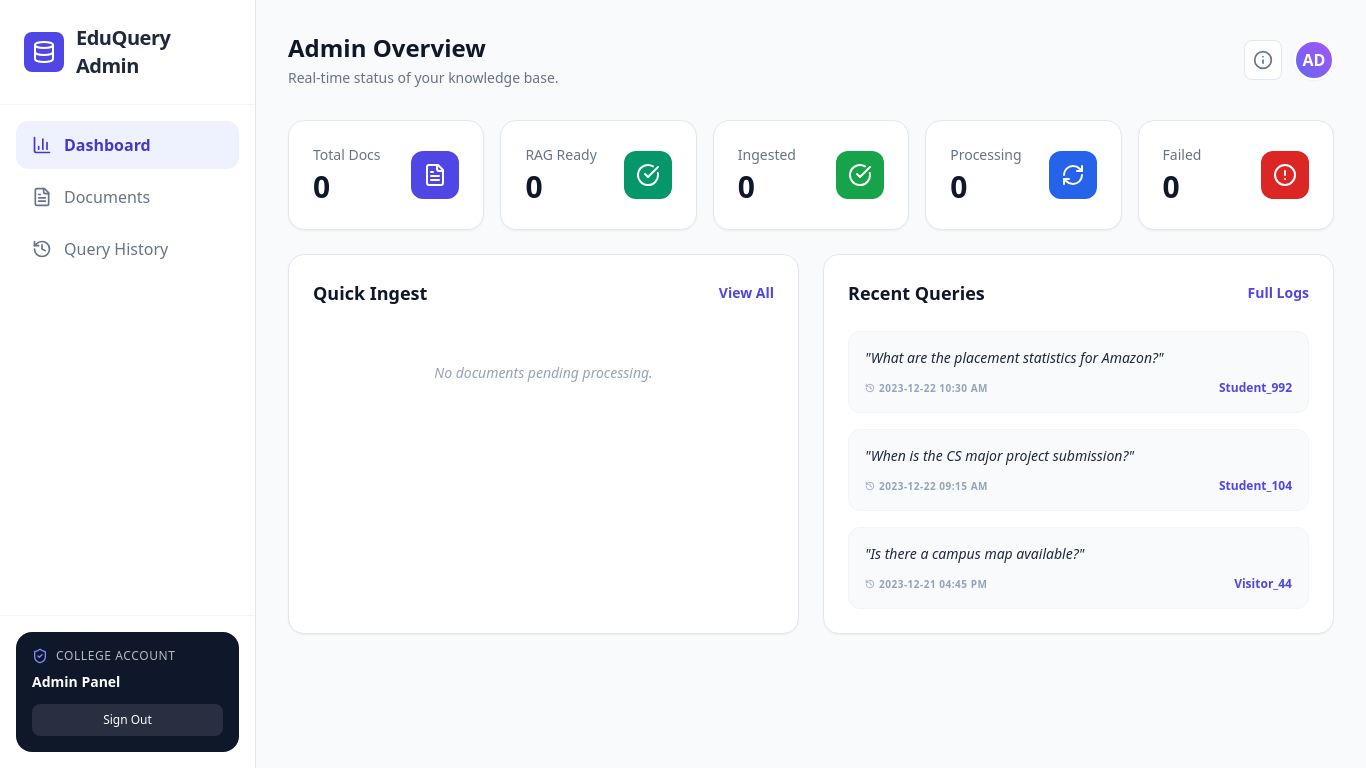
Test case: Admin Dashboard › renders dashboard and navigates to documents tab
Expected: the heading "Admin Overview" is shown, [288,31,486,64]
# Use regex to be more flexible
Click the button "Documents" at (128, 197), box [16,173,239,221]
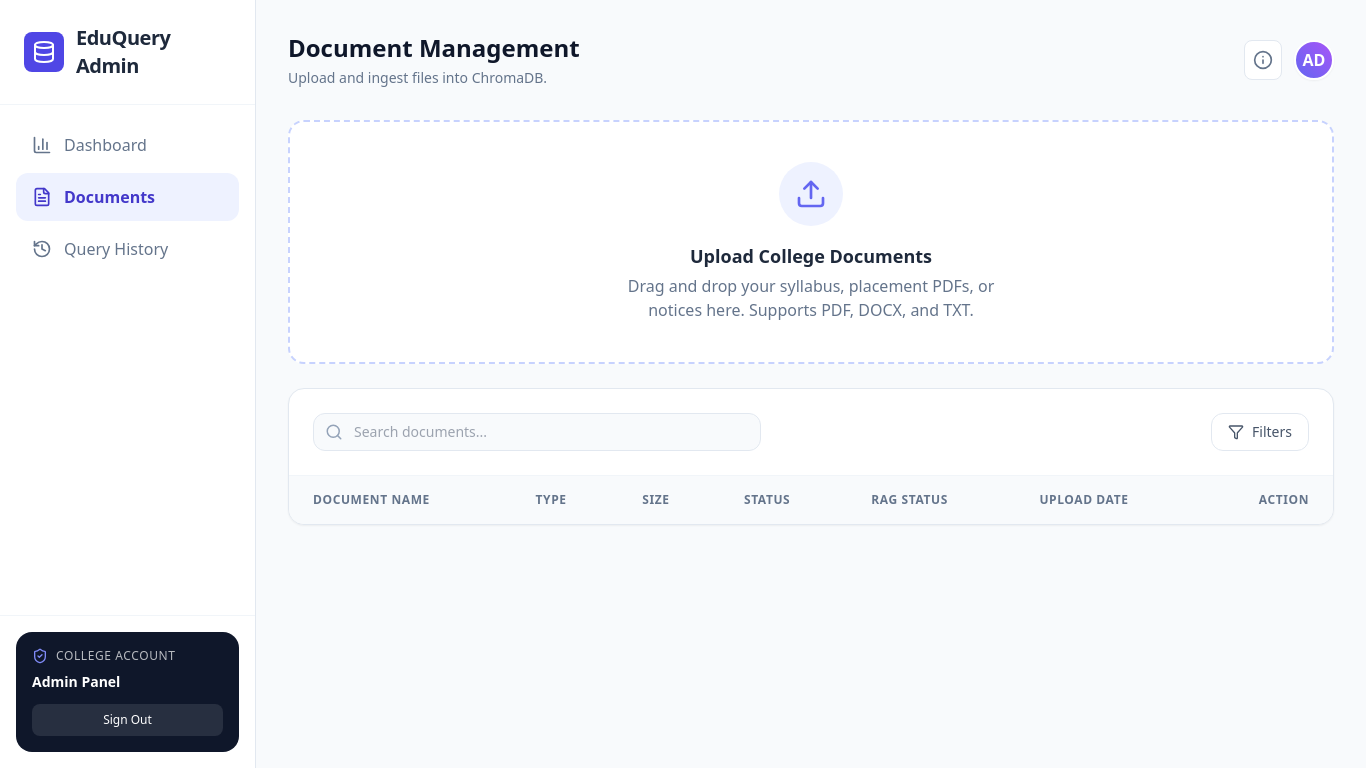
Expected: the heading "Document Management" is shown, [288,32,580,64]
